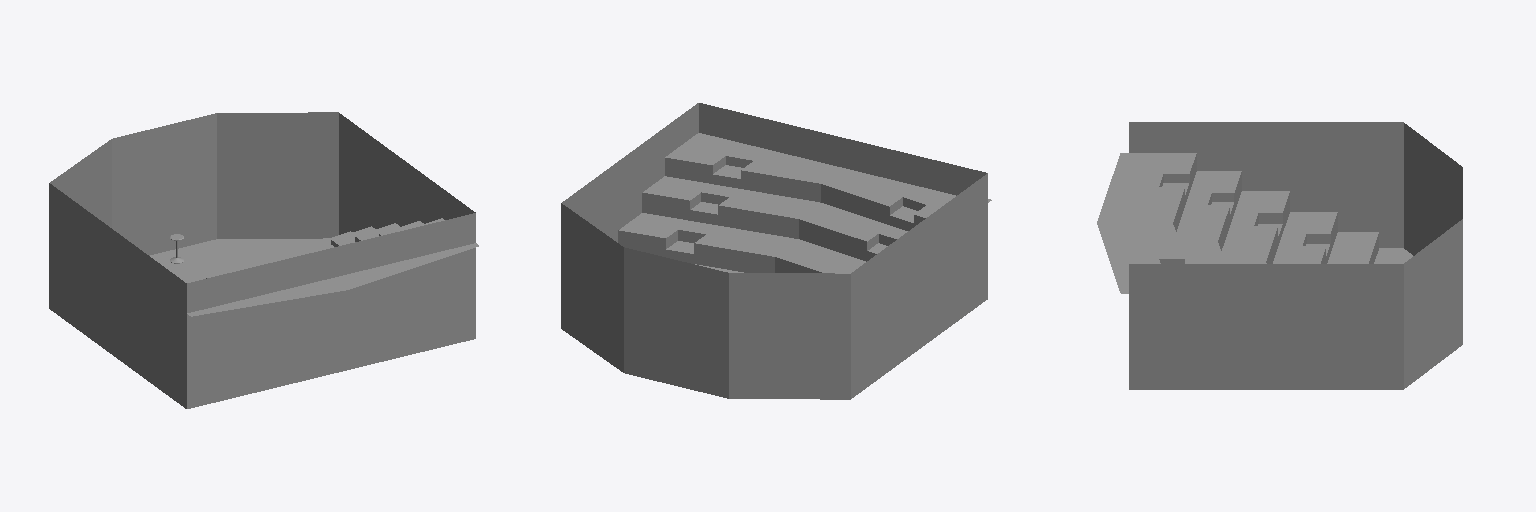
File: room.obj
The picture shows the model from 3 angles: view 1: azimuth 30°, elevation 25°; view 2: azimuth 150°, elevation 25°; view 3: azimuth 270°, elevation 25°; orthographic projection.
Visible parts, largest first — view 1: Cube.001_Cube, Cube; view 2: Cube, Cube.001_Cube; view 3: Cube.001_Cube, Cube.
Part boxes in pixels (x1,y1,x2,y2): Cube.001_Cube: (164,112,478,373); Cube: (49,126,346,408); Cube: (676,138,991,399); Cube.001_Cube: (561,103,842,385); Cube.001_Cube: (1097,219,1462,389); Cube: (1097,122,1462,263).
Size of the model in its own units: 36.56 by 15.23 by 40.11.